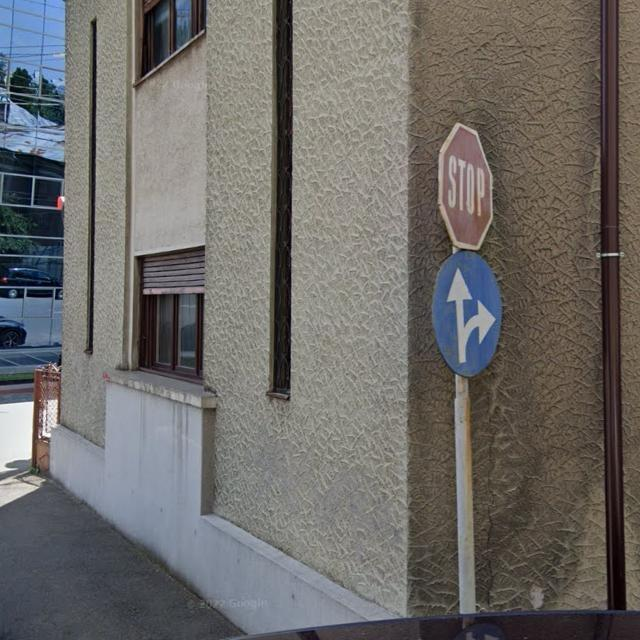prio_stop: (441, 120, 497, 251)
